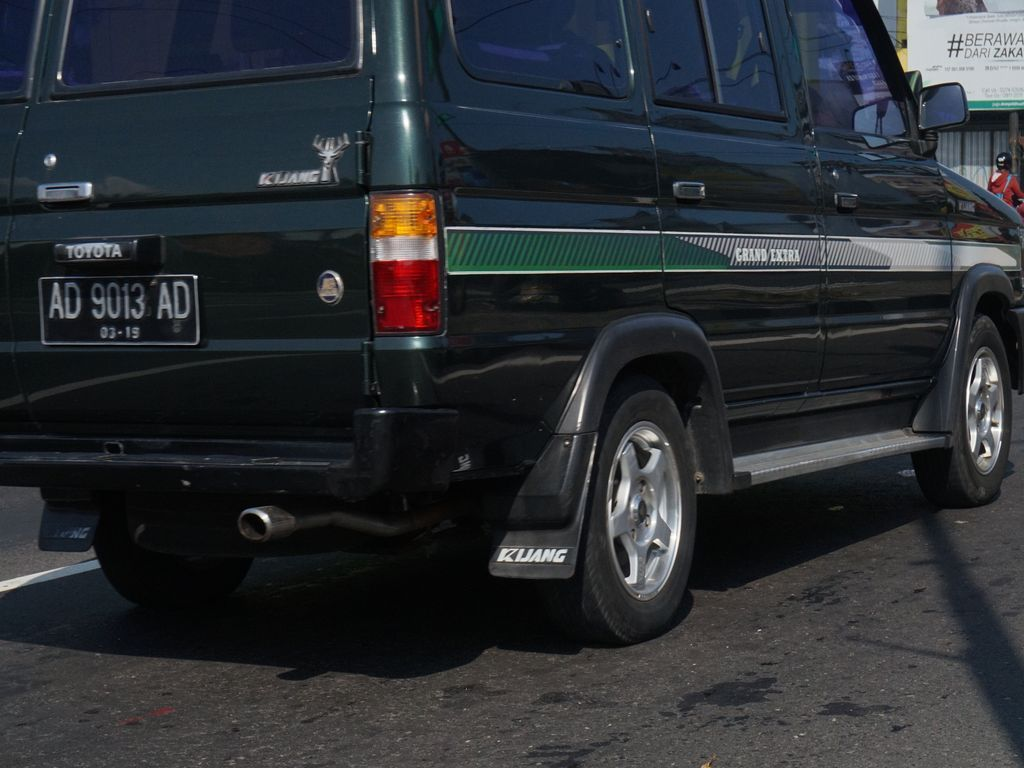plate: (47, 280, 191, 337)
